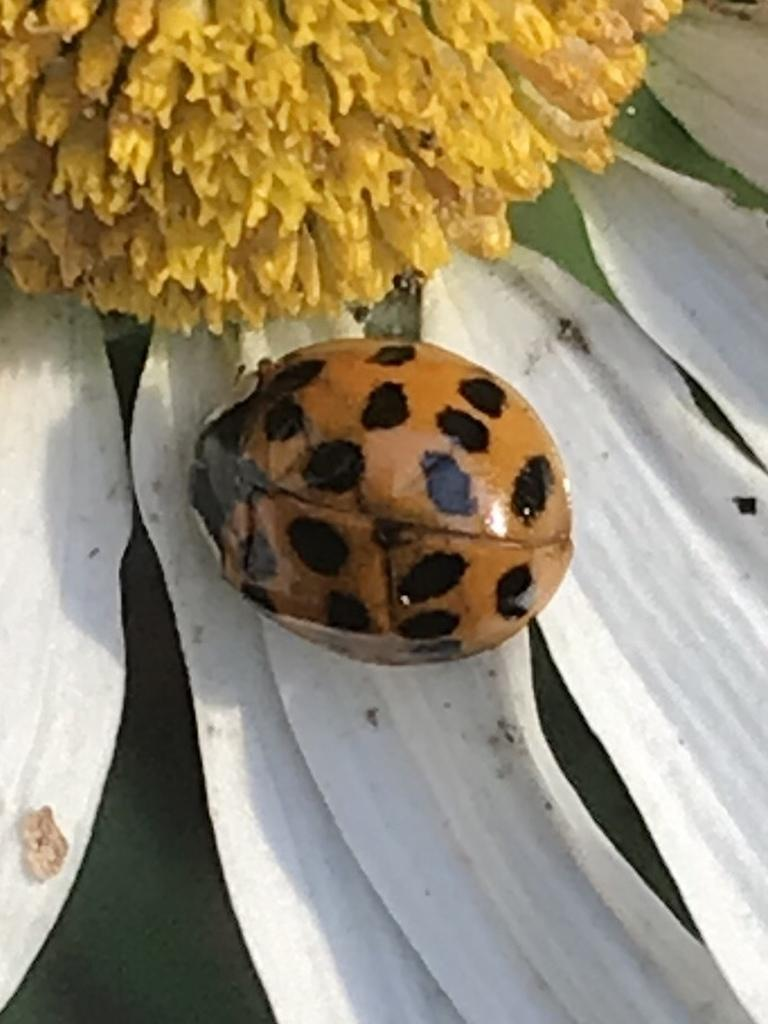ladybug: (186, 334, 581, 671)
